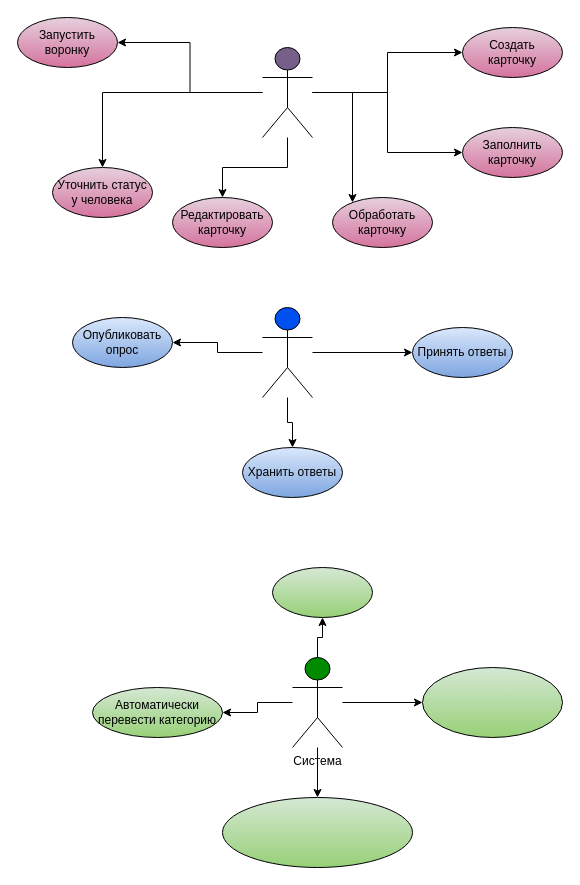
The diagram is 580 pixels wide and 885 high, and some of its shapes have lost their labels. Each missing label, with the centre of its shape:
Отправить уведомления / напоминания / опросы / поздравления: (x=317, y=832)
Разделить рассылки: (x=322, y=592)
Сайт: (x=287, y=352)
Создать задачу на звонок при "неизвестен": (x=492, y=702)
Сотрудник: (x=287, y=92)
